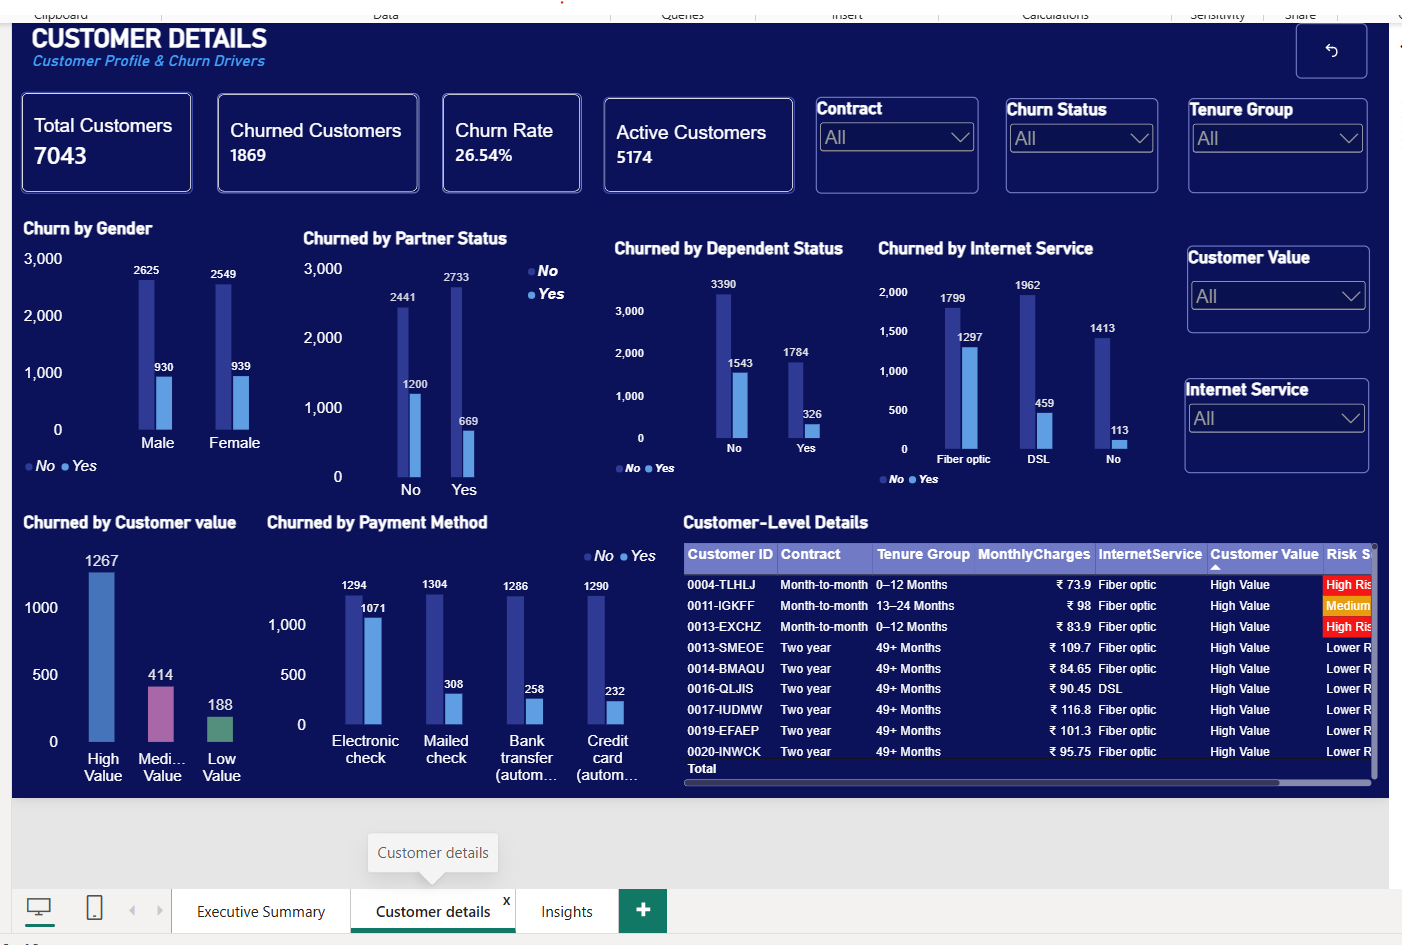

The page's visual inventory and layout, read from the dashboard file:
{"tool":"powerbi","page":{"name":"Customer details","canvas":[1920,1080],"ordinal":1},"visuals":[{"type":"clusteredColumnChart","title":"Churn by Gender","fields":{"Category":["Telco-Customer-Churn.gender"],"Y":["CountNonNull(Telco-Customer-Churn.customerID)"],"Series":["Telco-Customer-Churn.Churn"]},"box":[0,257.5,450,395],"z":0},{"type":"clusteredColumnChart","title":"Churned by Partner Status","fields":{"Category":["Telco-Customer-Churn.Partner"],"Y":["CountNonNull(Telco-Customer-Churn.customerID)"],"Series":["Telco-Customer-Churn.Churn"]},"box":[390,272.5,405,410],"z":1000},{"type":"clusteredColumnChart","title":"Churned by Dependent Status","fields":{"Category":["Telco-Customer-Churn.Dependents"],"Y":["CountNonNull(Telco-Customer-Churn.customerID)"],"Series":["Telco-Customer-Churn.Churn"]},"box":[825,285,415,367.5],"z":2000},{"type":"clusteredColumnChart","title":"Churned by Internet Service ","fields":{"Category":["Telco-Customer-Churn.InternetService"],"Y":["CountNonNull(Telco-Customer-Churn.customerID)"],"Series":["Telco-Customer-Churn.Churn"]},"box":[1192.5,285,427.5,382.5],"z":3000},{"type":"clusteredColumnChart","title":"Churned by Payment Method ","fields":{"Series":["Telco-Customer-Churn.Churn"],"Category":["Telco-Customer-Churn.PaymentMethod"],"Y":["CountNonNull(Telco-Customer-Churn.customerID)"]},"box":[340,667.5,580,412.5],"z":4000},{"type":"slicer","title":"Contract","fields":{"Values":["Telco-Customer-Churn.Contract"]},"box":[1120,102.5,227.5,135],"z":5000},{"type":"clusteredColumnChart","title":"Churned by Customer value","fields":{"Category":["Telco-Customer-Churn.Customer Value"],"Y":["Telco-Customer-Churn.Churned Customers"]},"box":[0,667.5,362.5,412.5],"z":6000},{"type":"textbox","title":"CUSTOMER DETAILS","box":[27.5,0,512.5,40],"z":7000},{"type":"textbox","title":"Customer Profile & Churn Drivers","box":[27.5,40,667.5,32.5],"z":8000},{"type":"cardVisual","fields":{"Data":["Telco-Customer-Churn.Churn Rate"]},"box":[600,97.5,195,140],"z":9000},{"type":"cardVisual","fields":{"Data":["Telco-Customer-Churn.Churned Customers"]},"box":[285,97.5,282.5,140],"z":10000},{"type":"cardVisual","fields":{"Data":["Telco-Customer-Churn.Active Customers"]},"box":[825,102.5,267.5,135],"z":11000},{"type":"cardVisual","fields":{"Data":["Telco-Customer-Churn.Total Customers"]},"box":[12.5,95,240,142.5],"z":12000},{"type":"tableEx","title":"Customer-Level Details","fields":{"Values":["Telco-Customer-Churn.Customer ID","Telco-Customer-Churn.Contract","Telco-Customer-Churn.Tenure Group","Telco-Customer-Churn.MonthlyCharges","Telco-Customer-Churn.InternetService","Telco-Customer-Churn.Customer Value","Telco-Customer-Churn.Risk Segment","Telco-Customer-Churn.Churn"]},"box":[920,667.5,1000,412.5],"z":13000},{"type":"slicer","title":"Churn Status","fields":{"Values":["Telco-Customer-Churn.Churn"]},"box":[1385,105,212.5,132.5],"z":14000},{"type":"slicer","title":"Tenure Group","fields":{"Values":["Telco-Customer-Churn.Tenure Group"]},"box":[1640,105,250,132.5],"z":15000},{"type":"slicer","title":"Customer Value","fields":{"Values":["Telco-Customer-Churn.Customer Value"]},"box":[1637.5,310,255,122.5],"z":16000},{"type":"slicer","title":"Internet Service","fields":{"Values":["Telco-Customer-Churn.InternetService"]},"box":[1635,495,257.5,132.5],"z":16001},{"type":"actionButton","box":[1790,0,100,77.5],"z":16002}]}

Visuals, with their boxes on the page's 1920x1080 design canvas (x1, y1, x2, y2). These are canvas units, not pixel positions in the 1402x945 screenshot, which may show the page scaled, cropped or inside an application window:
"Churn by Gender" clusteredColumnChart: crop(0, 258, 450, 652)
"Churned by Partner Status" clusteredColumnChart: crop(390, 272, 795, 682)
"Churned by Dependent Status" clusteredColumnChart: crop(825, 285, 1240, 652)
"Churned by Internet Service " clusteredColumnChart: crop(1192, 285, 1620, 668)
"Churned by Payment Method " clusteredColumnChart: crop(340, 668, 920, 1080)
"Contract" slicer: crop(1120, 102, 1348, 238)
"Churned by Customer value" clusteredColumnChart: crop(0, 668, 362, 1080)
"CUSTOMER DETAILS" textbox: crop(28, 0, 540, 40)
"Customer Profile & Churn Drivers" textbox: crop(28, 40, 695, 72)
cardVisual - Telco-Customer-Churn.Churn Rate: crop(600, 98, 795, 238)
cardVisual - Telco-Customer-Churn.Churned Customers: crop(285, 98, 568, 238)
cardVisual - Telco-Customer-Churn.Active Customers: crop(825, 102, 1092, 238)
cardVisual - Telco-Customer-Churn.Total Customers: crop(12, 95, 252, 238)
"Customer-Level Details" tableEx: crop(920, 668, 1920, 1080)
"Churn Status" slicer: crop(1385, 105, 1598, 238)
"Tenure Group" slicer: crop(1640, 105, 1890, 238)
"Customer Value" slicer: crop(1638, 310, 1892, 432)
"Internet Service" slicer: crop(1635, 495, 1892, 628)
actionButton: crop(1790, 0, 1890, 78)
